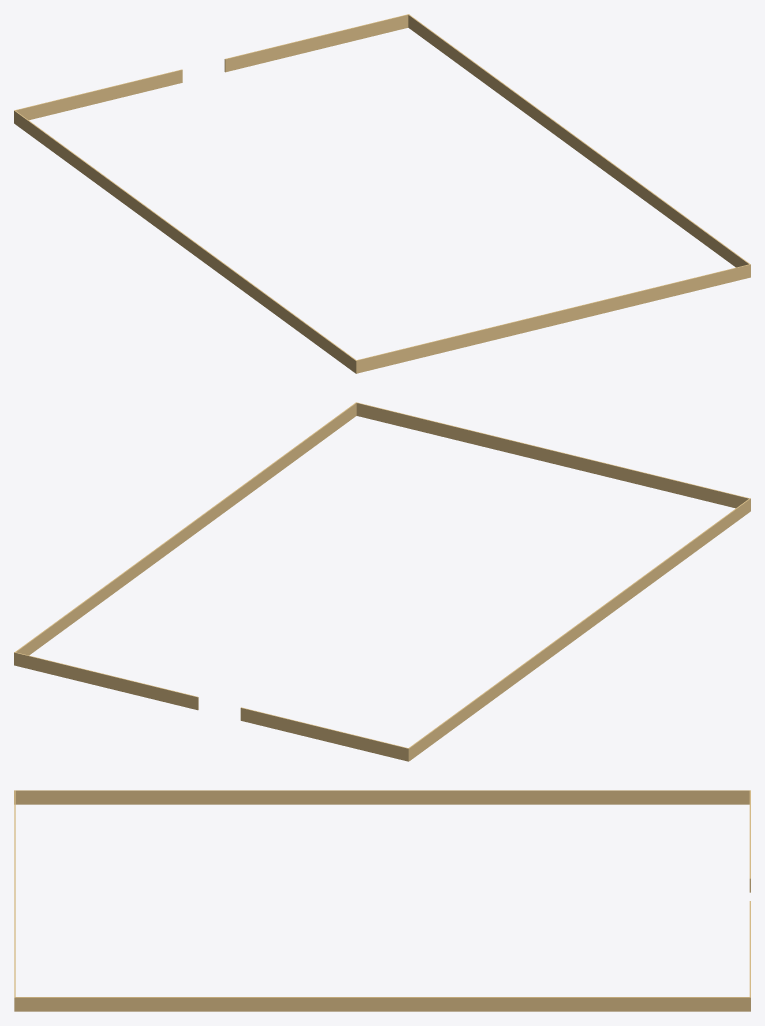
File: Walls 1 (1).glb
3 views of the same model, one above another, from view 1: azimuth 30°, elevation 25°; view 2: azimuth 150°, elevation 25°; view 3: azimuth 270°, elevation 25° (orthographic). The views are drawn at different scales.
Visible parts, largest first — view 1: Back wall, Right wall, Left wall, Frontwall, Frontwall (1); view 2: Back wall, Right wall, Left wall, Frontwall, Frontwall (1); view 3: Left wall, Right wall, Back wall.
Boxes of the visible parts, x1,y1,x2,y2 form: Back wall: [356, 264, 750, 373]; Right wall: [14, 110, 357, 373]; Left wall: [408, 14, 749, 267]; Frontwall: [224, 14, 409, 72]; Frontwall (1): [14, 69, 182, 122]; Back wall: [356, 402, 749, 508]; Right wall: [409, 498, 750, 760]; Left wall: [15, 402, 356, 655]; Frontwall: [14, 652, 198, 710]; Frontwall (1): [240, 707, 409, 761]; Left wall: [14, 997, 749, 1011]; Right wall: [14, 790, 749, 804]; Back wall: [14, 790, 15, 1011].
Size of the model in its own units: 128 by 4 by 192.
